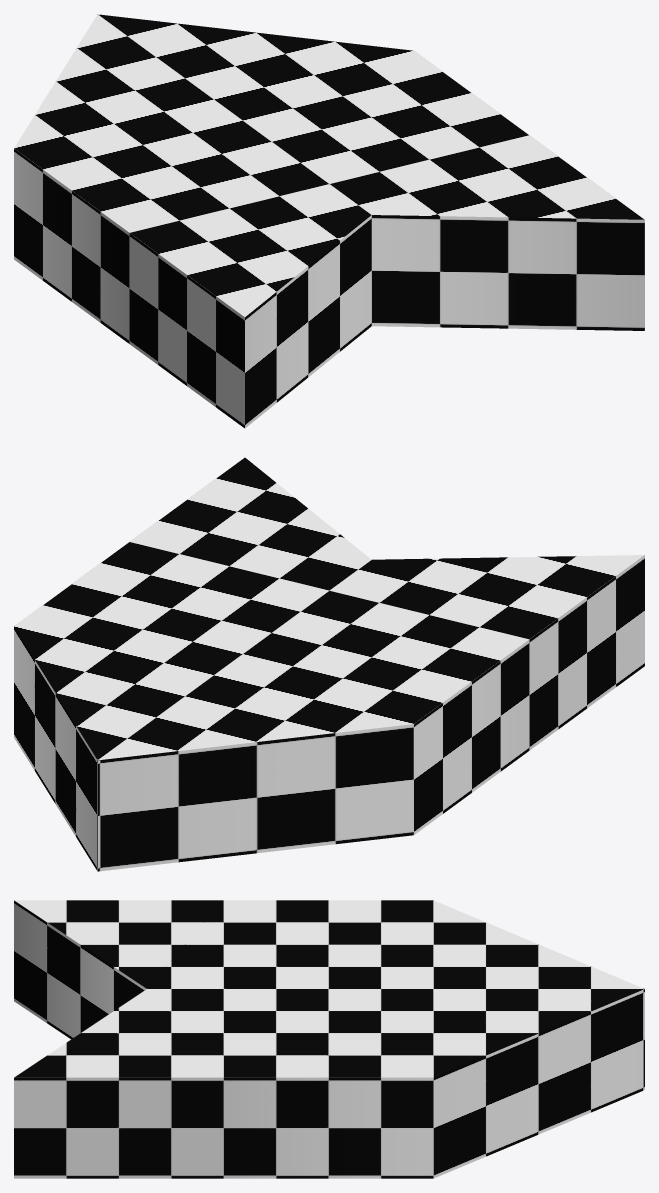
File: arrow2.fbx
3 renders of one model, top to bottom at view 1: azimuth 30°, elevation 25°; view 2: azimuth 150°, elevation 25°; view 3: azimuth 270°, elevation 25°, orthographic. The views are drawn at different scales.
Parts seen in each view (by area): view 1: Cube; view 2: Cube; view 3: Cube.
Boxes of the visible parts, bbox=[...] form: Cube: bbox=[14, 14, 644, 428]; Cube: bbox=[14, 457, 644, 871]; Cube: bbox=[14, 900, 644, 1178].
Size of the model in its own units: 200 by 53.15 by 301.
1 material, 1 textured.
